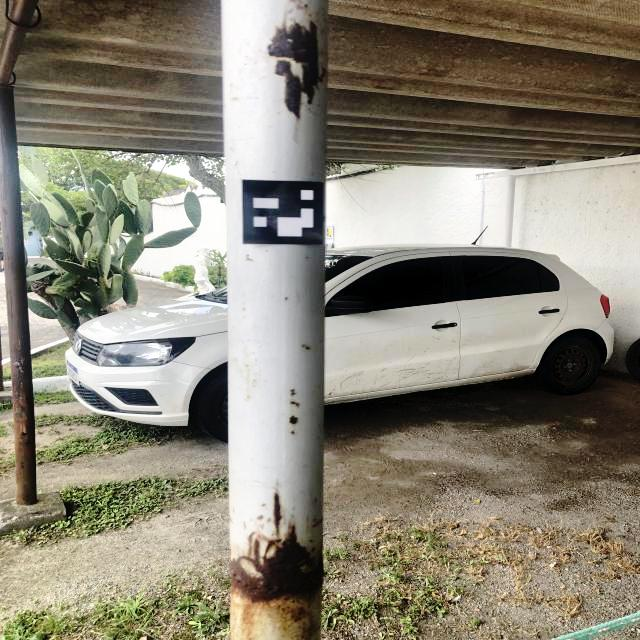Corrosion: (0, 0, 39, 506), (228, 491, 324, 640), (266, 18, 326, 120), (5, 0, 42, 28), (290, 0, 309, 10), (476, 172, 496, 179), (9, 71, 16, 86), (289, 415, 298, 424), (313, 518, 322, 527), (246, 254, 254, 261), (290, 401, 300, 406), (301, 344, 310, 349), (255, 515, 263, 520), (291, 389, 296, 395), (230, 515, 233, 522), (243, 522, 246, 529), (291, 430, 296, 434), (312, 547, 316, 551), (262, 503, 266, 507), (267, 518, 271, 522)
